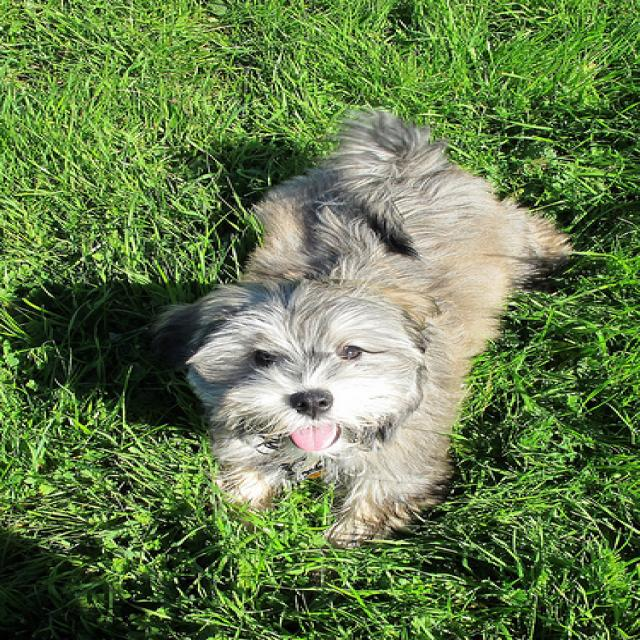dog-havanese: (137, 99, 584, 553)
